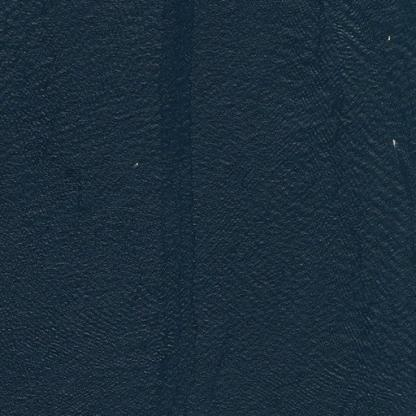ship: (126, 156, 143, 170), (387, 134, 398, 150), (382, 30, 392, 42)
